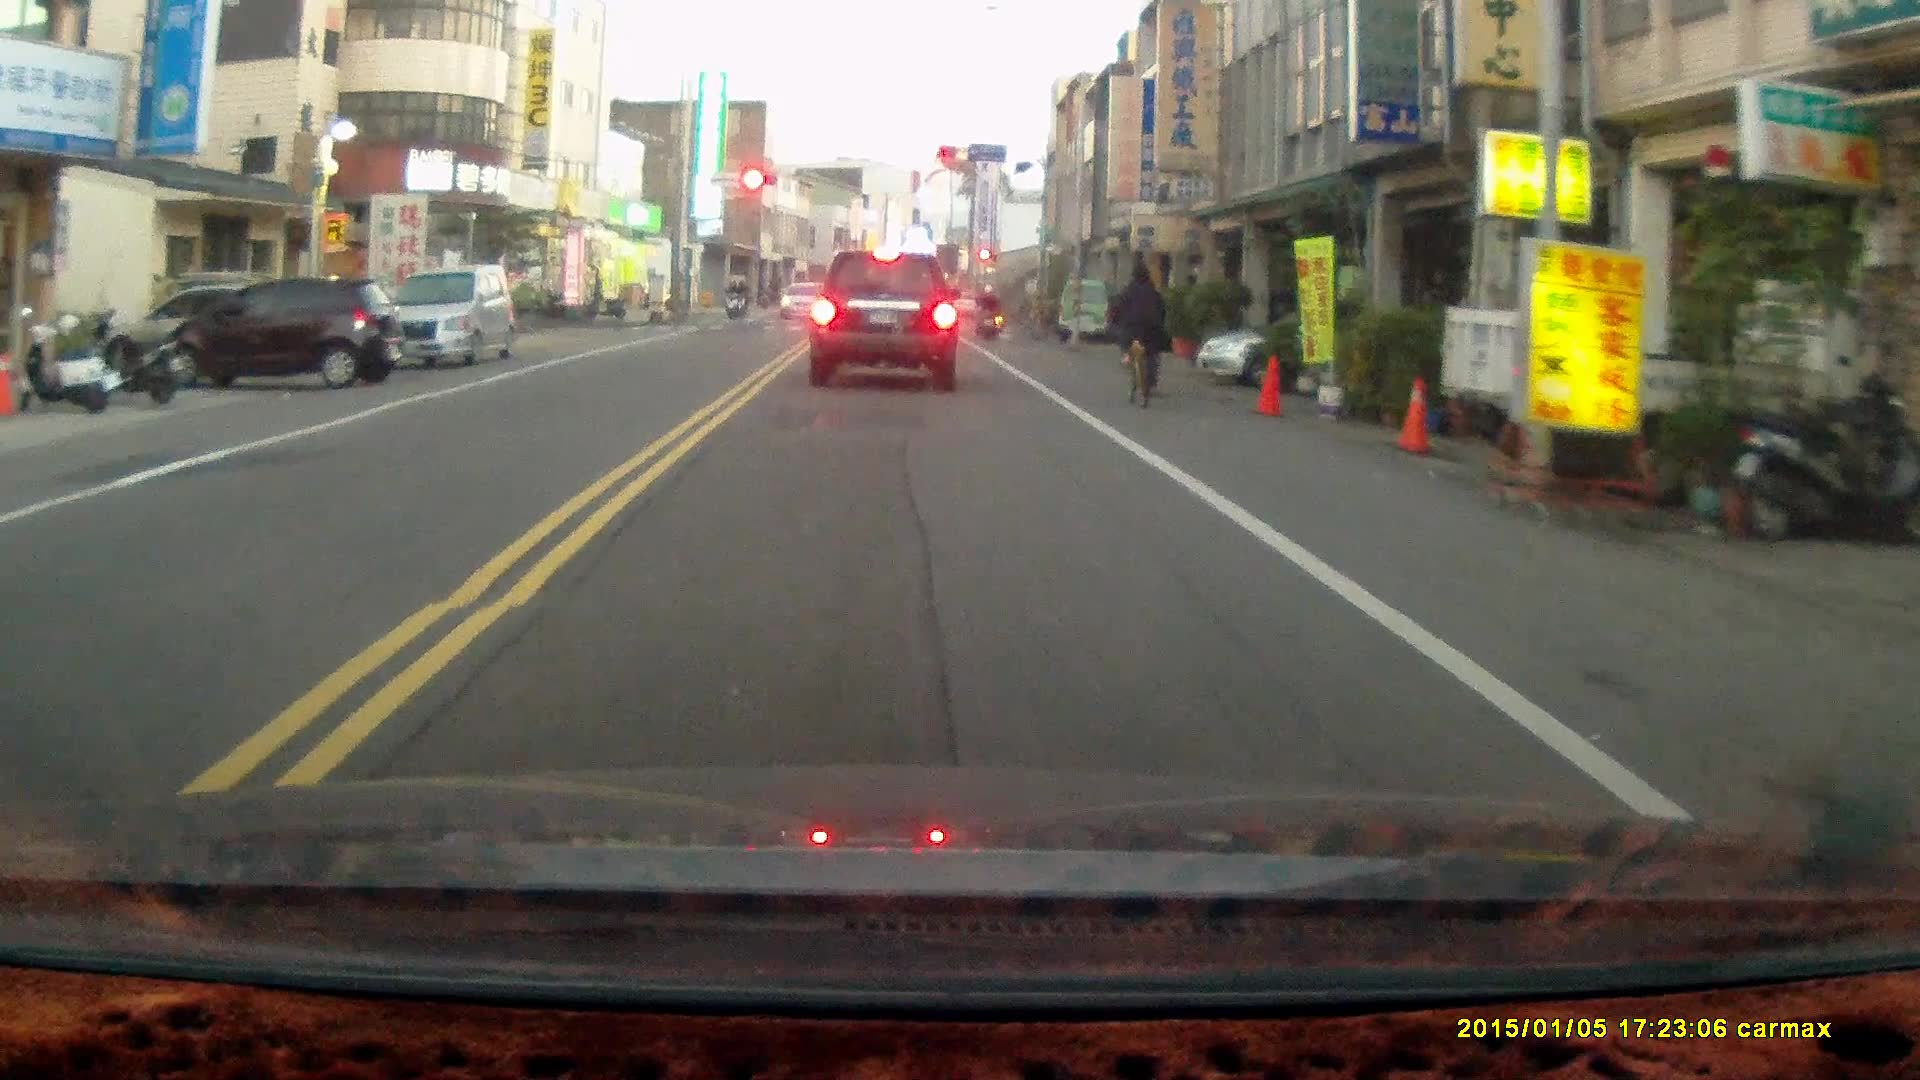rider: (1111, 260, 1170, 410), (972, 279, 1002, 340), (721, 277, 744, 322)
vehicle: (168, 276, 401, 393), (806, 254, 966, 398), (1197, 311, 1446, 395), (366, 273, 514, 375)
